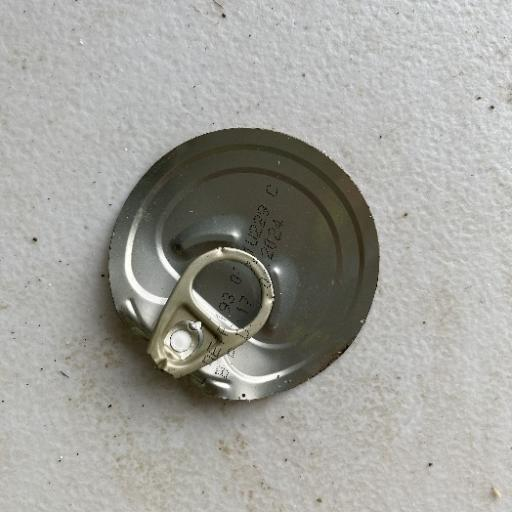Metal: (105, 124, 382, 404)
